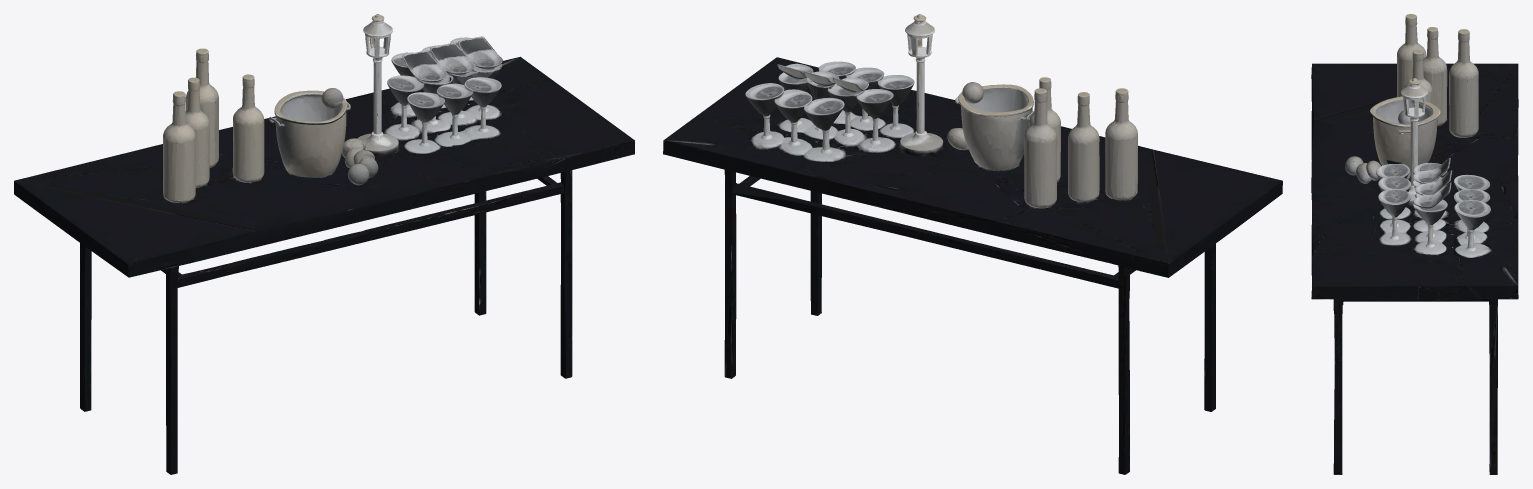
The model's file is terracoDrinks.glb.
3 renders of one model, left to right at view 1: azimuth 30°, elevation 25°; view 2: azimuth 150°, elevation 25°; view 3: azimuth 270°, elevation 25°, orthographic. The views are drawn at different scales.
Bounding box in the file's own units: 1.9 × 1.32 × 0.7459.
1 material, 1 textured.
